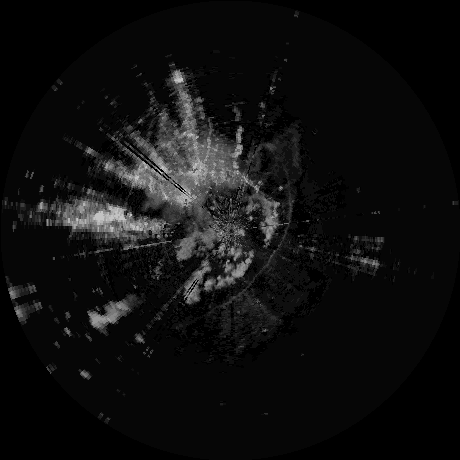frontgust: (203, 181, 294, 317)
